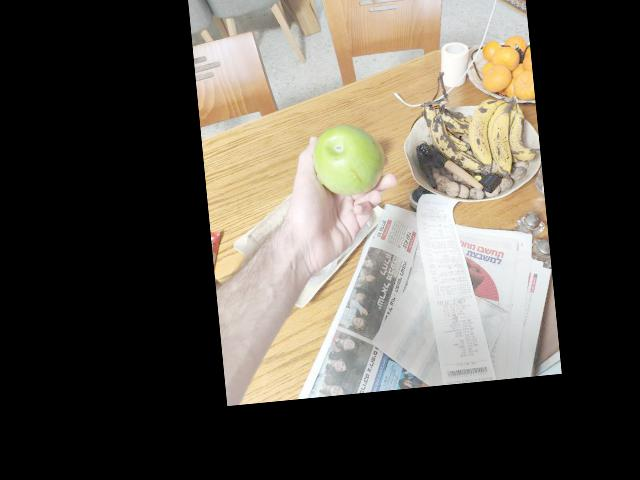apple: (308, 116, 384, 199)
